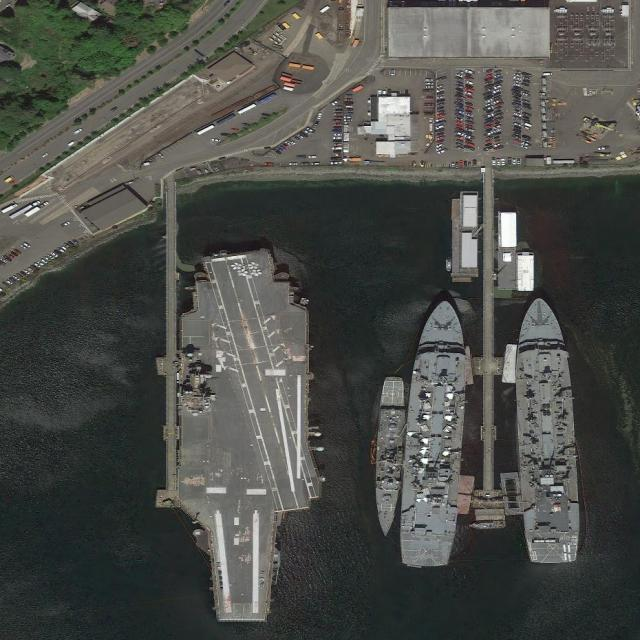Aircraft Carrier: (170, 246, 327, 623)
Auxiliary Ships: (396, 294, 474, 569), (511, 298, 584, 569)
Dock: (476, 170, 504, 526), (154, 198, 178, 509)
Frigate: (373, 375, 406, 536)
Other Ship: (445, 258, 452, 271)
